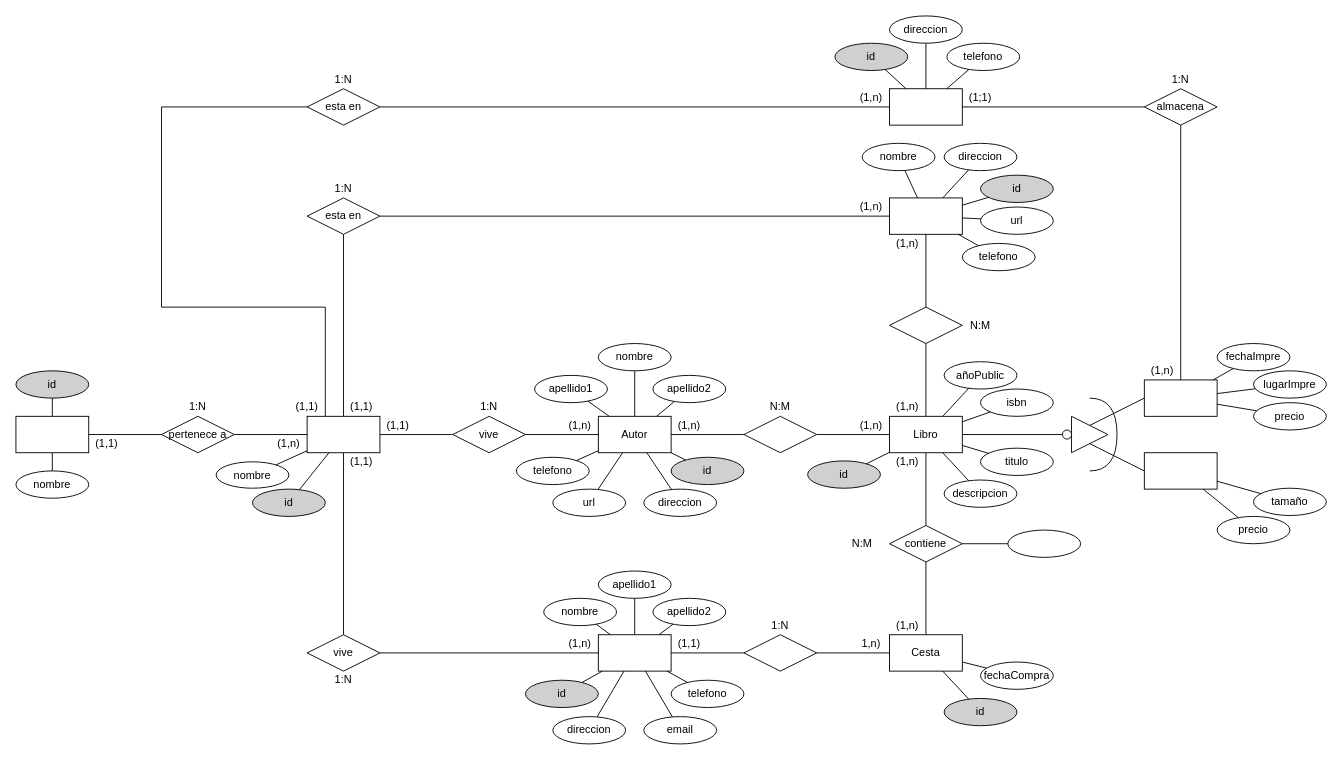
This 1342x760 diagram has some shape labels left out. The shapes that lost their labels are listed below. From the top down, each one's centre as x and y in pixels, then its label:
At pixel 925 106: "Almacen".
At pixel 925 215: "Editorial".
At pixel 925 325: "publica".
At pixel 1180 397: "Papel".
At pixel 52 434: "Provincia".
At pixel 343 434: "Localidad".
At pixel 780 434: "escribe".
At pixel 1180 470: "eBook".
At pixel 1044 543: "cantidad".
At pixel 634 652: "Cliente".
At pixel 780 652: "tiene".
